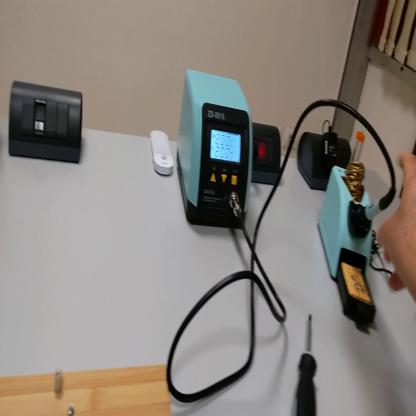hand: (379, 149, 416, 299)
screwdriver-: (296, 315, 317, 415)
socket: (298, 131, 356, 192), (252, 122, 283, 189)
welder base: (319, 128, 383, 334)
welder probe tip: (358, 187, 399, 235)
welder station: (179, 71, 253, 232)
working area: (3, 364, 174, 414)
